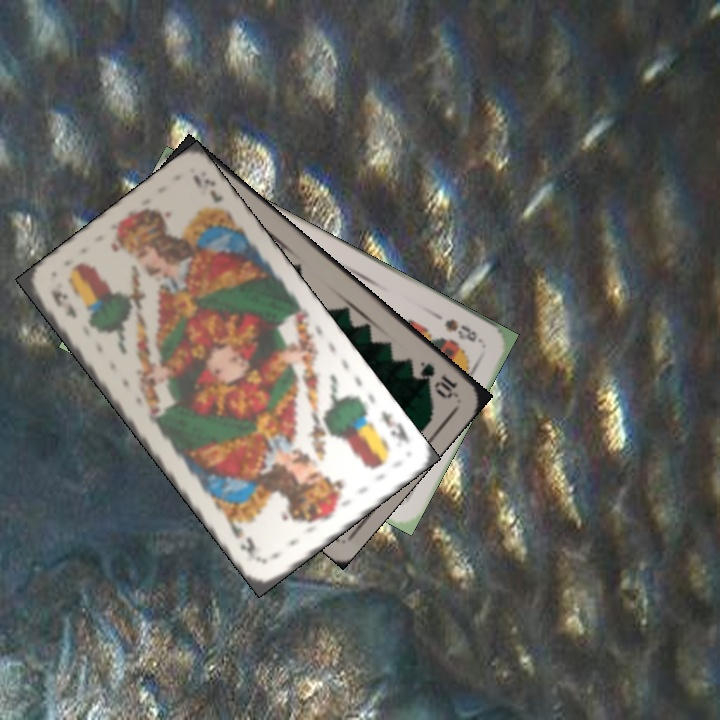EK: (376, 407, 412, 447), (47, 285, 80, 321)
G10: (416, 357, 461, 402)
S8: (440, 314, 486, 346)
